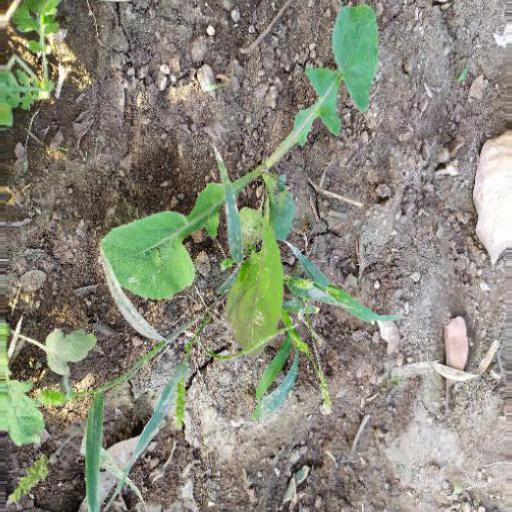weed: (81, 8, 399, 342)
